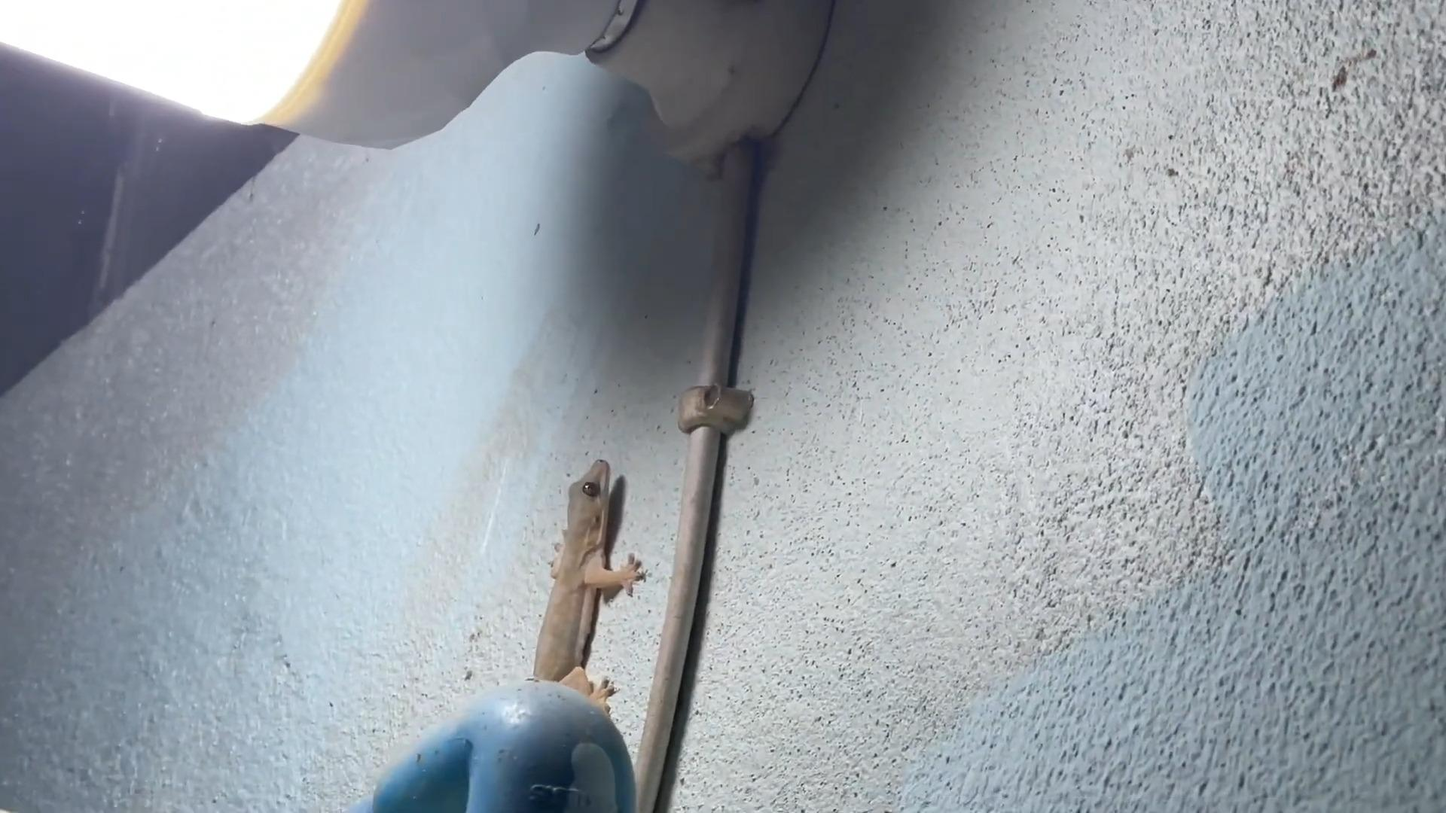lizard: (529, 454, 647, 679)
